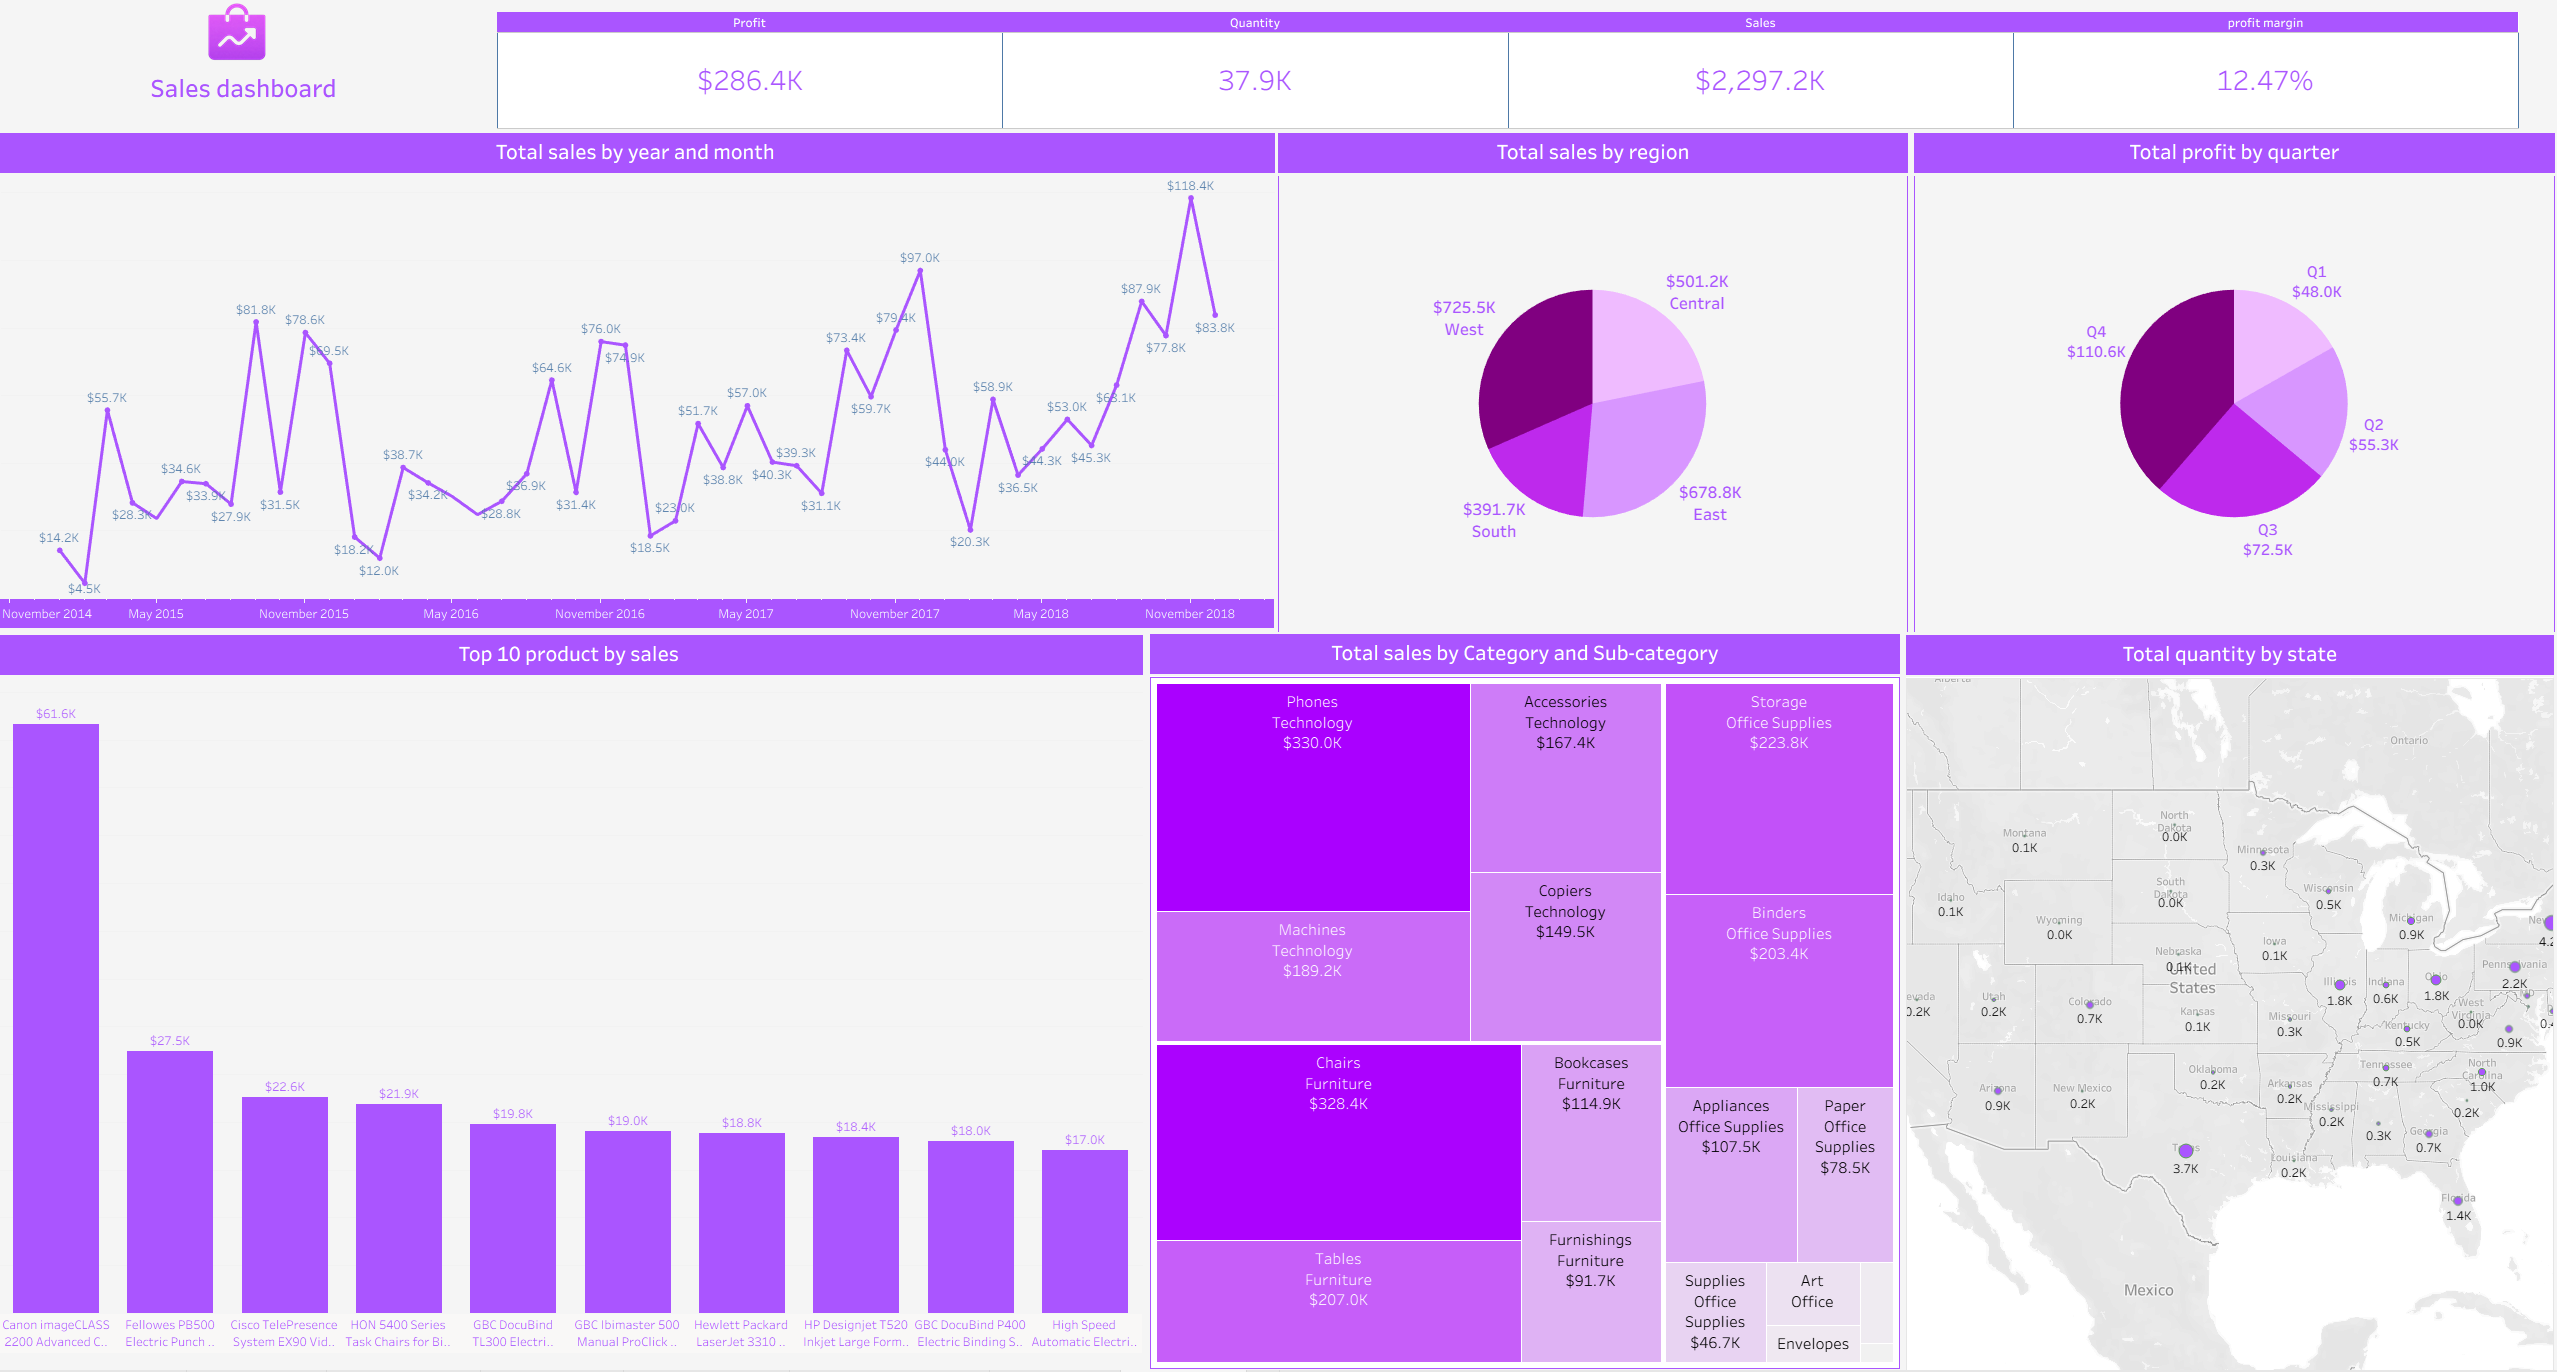

This screenshot's page, from the dashboard's own definition file:
{"tool":"tableau","page":{"name":"Sales dashboard","canvas":[1000,1000],"units":"permille","ordinal":0},"visuals":[{"type":"image","param":"C:/Users/Yassin/Downloads/ChatGPT_Image_Jan_18__2026__09_23_23_PM-removebg-previ","box":[81.2,0.8,37.2,44.4]},{"type":"worksheet","title":"KPI","mark":"Automatic","box":[195,9.1,789.7,85.5]},{"type":"title","box":[5.5,45.2,181.1,36.2]},{"type":"worksheet","title":"Total sales by year and month ","mark":"Automatic","rows":["Sales"],"cols":["Order Date"],"box":[0.8,97,497.9,361.8]},{"type":"worksheet","title":"Total sales by region","mark":"Pie","box":[500,97,246.2,364.3]},{"type":"worksheet","title":"Total profit by quarter","mark":"Pie","box":[748.3,97,250.4,364.3]},{"type":"worksheet","title":"Total sales by Category and Sub-category","mark":"Automatic","box":[450.1,463,293.2,536.2]},{"type":"worksheet","title":"Top 10 product by sales ","mark":"Bar","rows":["Sales"],"cols":["Product Name"],"box":[0.4,463.8,446.7,532.9]}]}

Visuals, with their boxes on the dashboard's canvas, which has no fixed pixel size, in thousandths of its width and height (x1, y1, x2, y2). These are canvas units, not pixel positions in the 2557x1372 screenshot, which may show the page scaled, cropped or inside an application window:
image: [81, 1, 118, 45]
"KPI" worksheet: [195, 9, 985, 95]
title: [6, 45, 187, 81]
"Total sales by year and month " worksheet: [1, 97, 499, 459]
"Total sales by region" worksheet (Pie marks): [500, 97, 746, 461]
"Total profit by quarter" worksheet (Pie marks): [748, 97, 999, 461]
"Total sales by Category and Sub-category" worksheet: [450, 463, 743, 999]
"Top 10 product by sales " worksheet (Bar marks): [0, 464, 447, 997]
